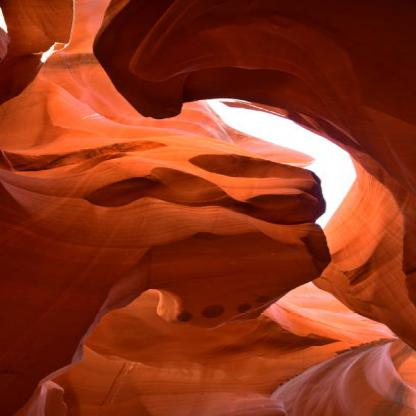Sedimentary_Sandstone: (58, 118, 323, 328), (88, 0, 415, 115)
